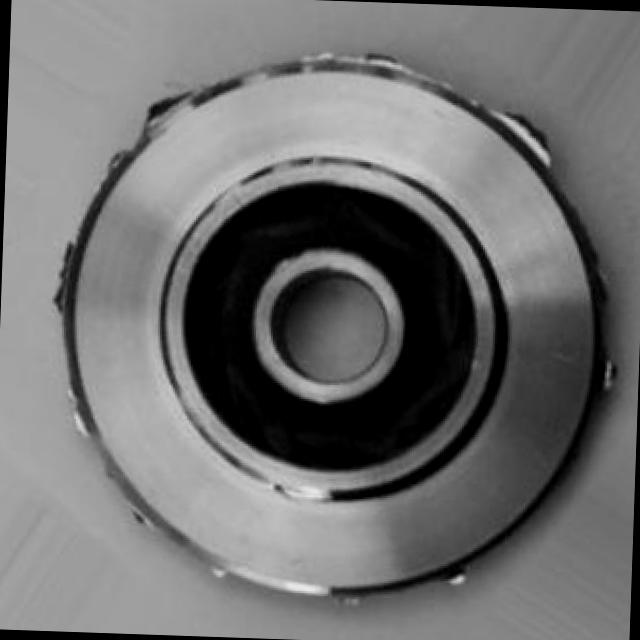Defect: (133, 90, 191, 122)
